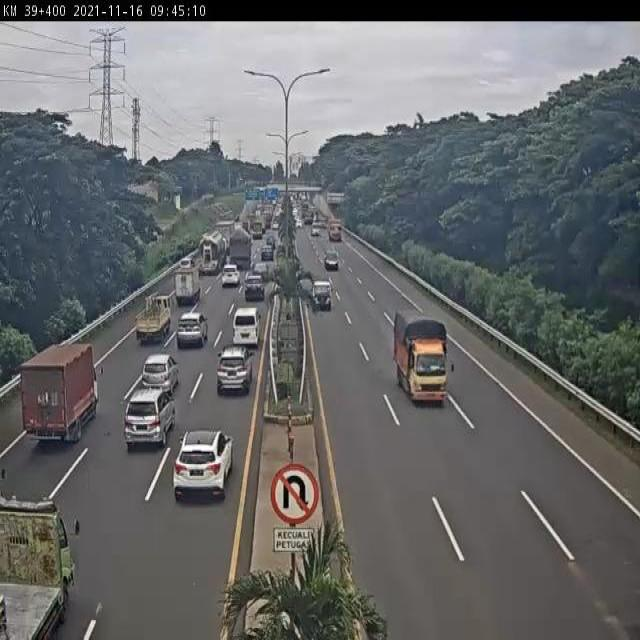car: (174, 432, 234, 500), (125, 395, 173, 449), (218, 347, 251, 392), (142, 353, 179, 391), (176, 313, 207, 347), (310, 278, 334, 310), (242, 281, 263, 307), (249, 262, 271, 286), (221, 264, 242, 289), (324, 248, 342, 271)
small bus: (233, 308, 260, 348)
small truck: (132, 295, 170, 345), (172, 267, 200, 305)
truck-l-: (225, 231, 252, 273)
truck-m-: (22, 342, 99, 442), (393, 306, 450, 406)
truck-xl-: (195, 234, 224, 278)
